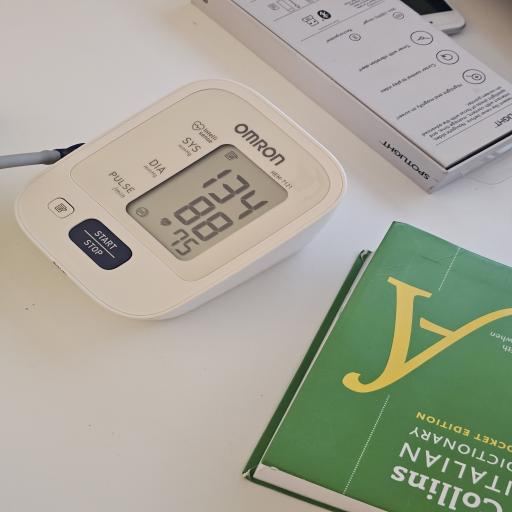blood pressure monitor: (14, 78, 346, 321)
